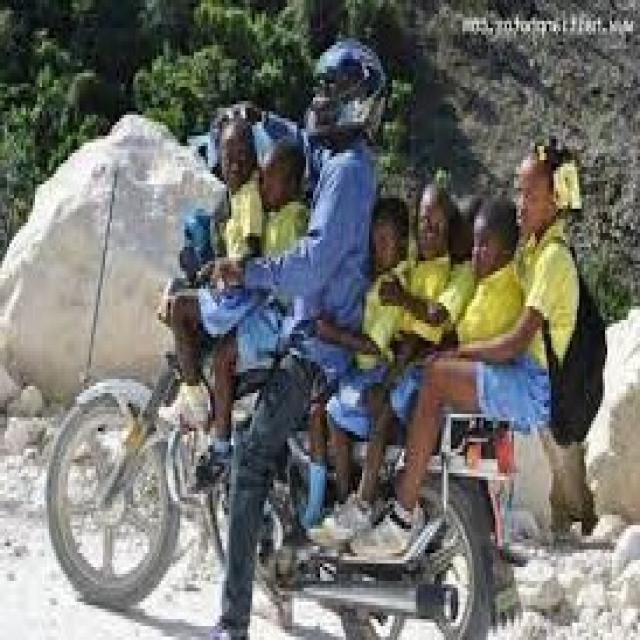Overloading: (110, 38, 602, 602)
